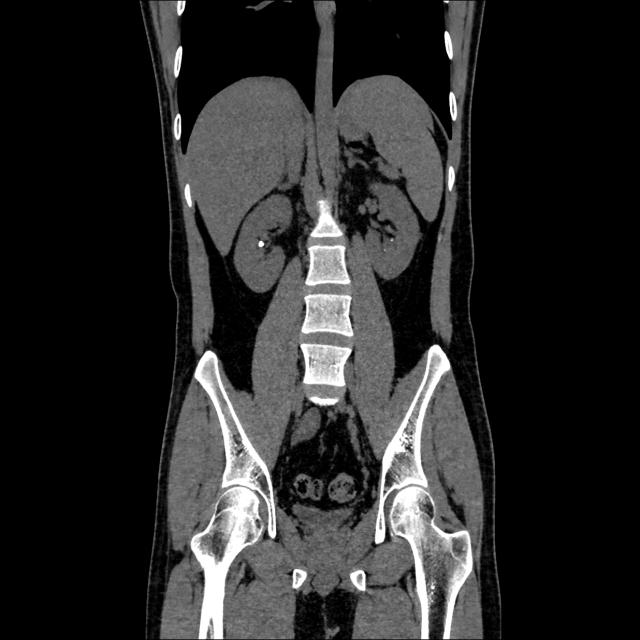kidneystone: (258, 239, 265, 248), (391, 236, 394, 242)
